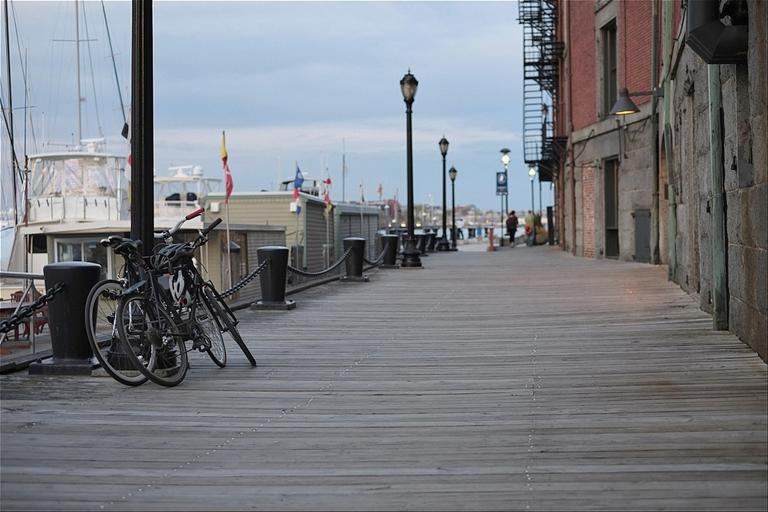non-vehicle: (82, 205, 227, 385), (111, 216, 257, 387)
